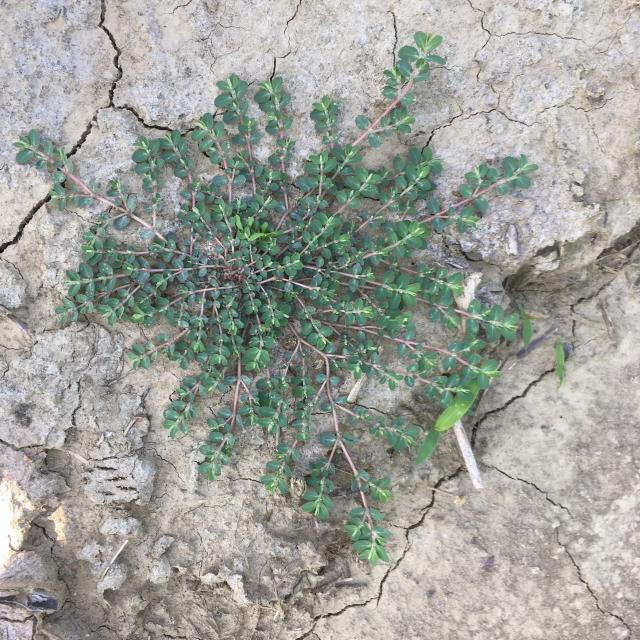SpottedSpurge: (11, 30, 540, 568)
